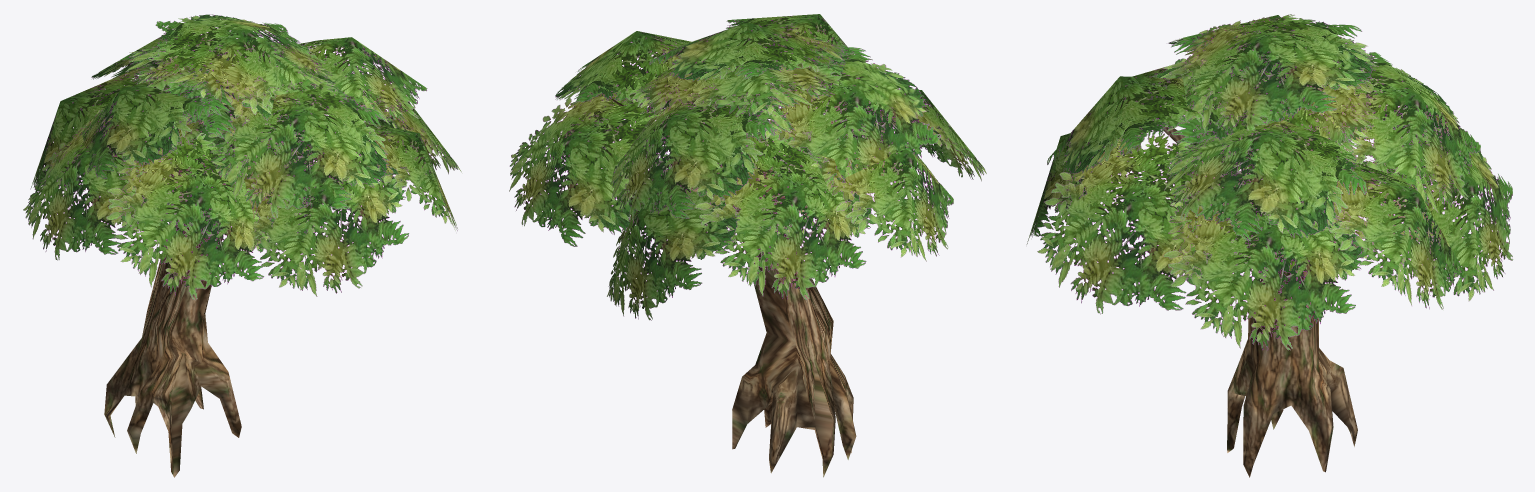
The model's file is n_tree01.glb.
The picture shows the model from 3 angles, left to right: view 1: azimuth 30°, elevation 25°; view 2: azimuth 150°, elevation 25°; view 3: azimuth 270°, elevation 25°; orthographic projection. The views are drawn at different scales.
Parts seen in each view (by area): view 1: n_tree01; view 2: n_tree01; view 3: n_tree01.
Boxes of the visible parts, x1=… form: n_tree01: x1=23, y1=14, x2=461, y2=477; n_tree01: x1=509, y1=14, x2=986, y2=477; n_tree01: x1=1026, y1=14, x2=1513, y2=477.
Size of the model in its own units: 3.33 by 3.36 by 3.27.
2 materials, 2 textured.
